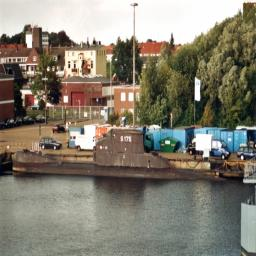submarine: (13, 129, 228, 180)
